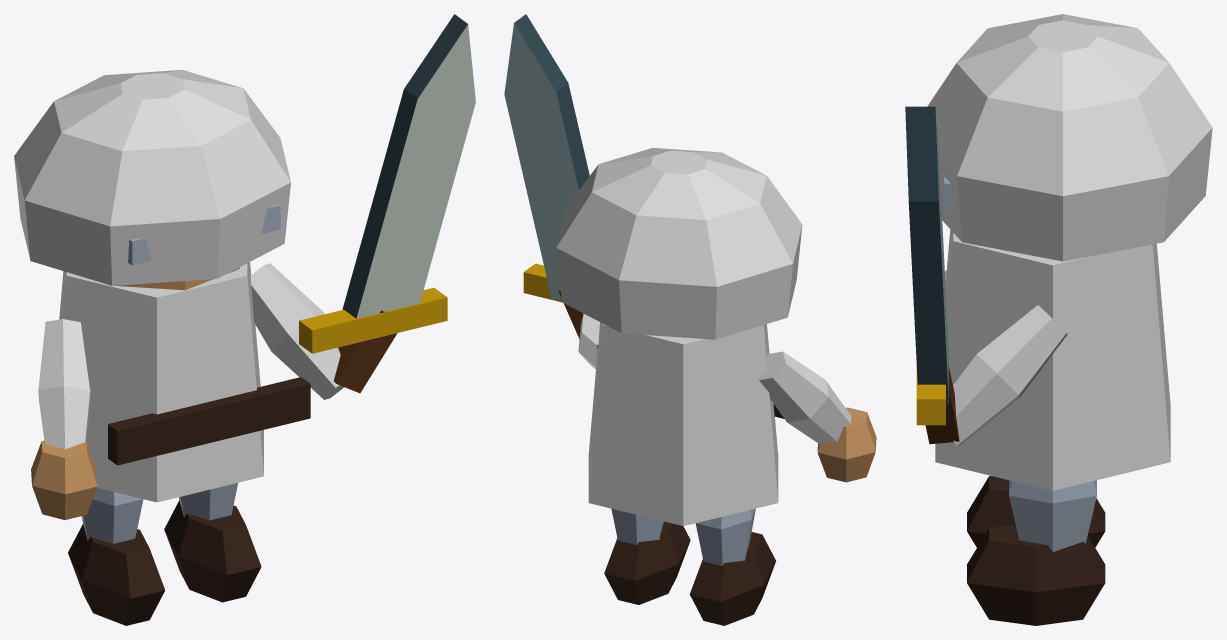
The model's file is troop_sword.fbx.
3 views of the same model, side by side, from view 1: azimuth 30°, elevation 25°; view 2: azimuth 150°, elevation 25°; view 3: azimuth 270°, elevation 25° (orthographic). The views are drawn at different scales.
Visible parts, largest first — view 1: troop_sword; view 2: troop_sword; view 3: troop_sword.
Boxes of the visible parts, x1,y1,x2,y2 form: troop_sword: (14,14,475,625); troop_sword: (504,14,876,625); troop_sword: (905,14,1212,625).
Size of the model in its own units: 0.6432 by 0.805 by 0.3665.
